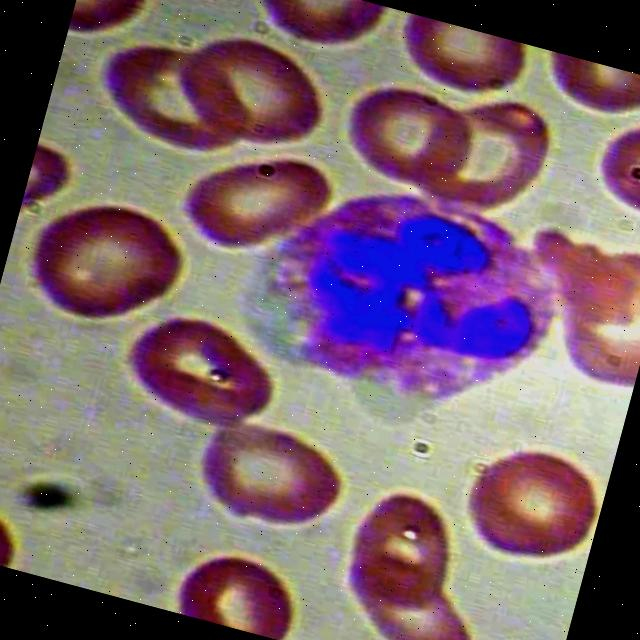RBC: (177, 390, 367, 554), (13, 180, 198, 346), (162, 125, 340, 273), (159, 17, 337, 165), (77, 23, 255, 171), (104, 298, 288, 440), (448, 428, 612, 582), (328, 467, 472, 615), (327, 74, 482, 206), (155, 531, 310, 640), (382, 10, 532, 115), (237, 0, 387, 76), (578, 96, 640, 221)
WBC: (219, 142, 579, 447)
